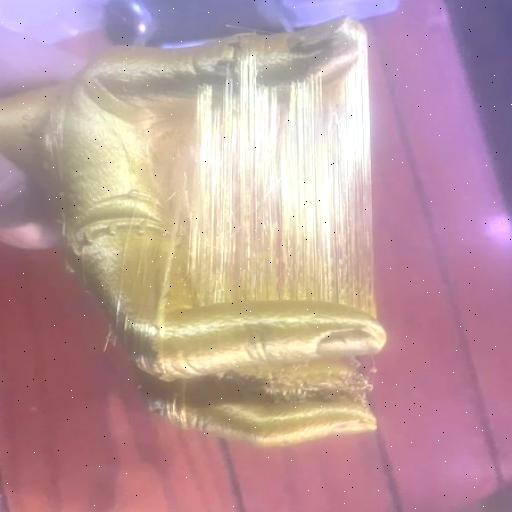stringing: (179, 62, 376, 322)
